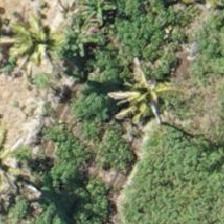coconut_tree: (105, 42, 195, 132), (36, 0, 126, 80), (0, 0, 80, 87), (49, 0, 139, 51)
